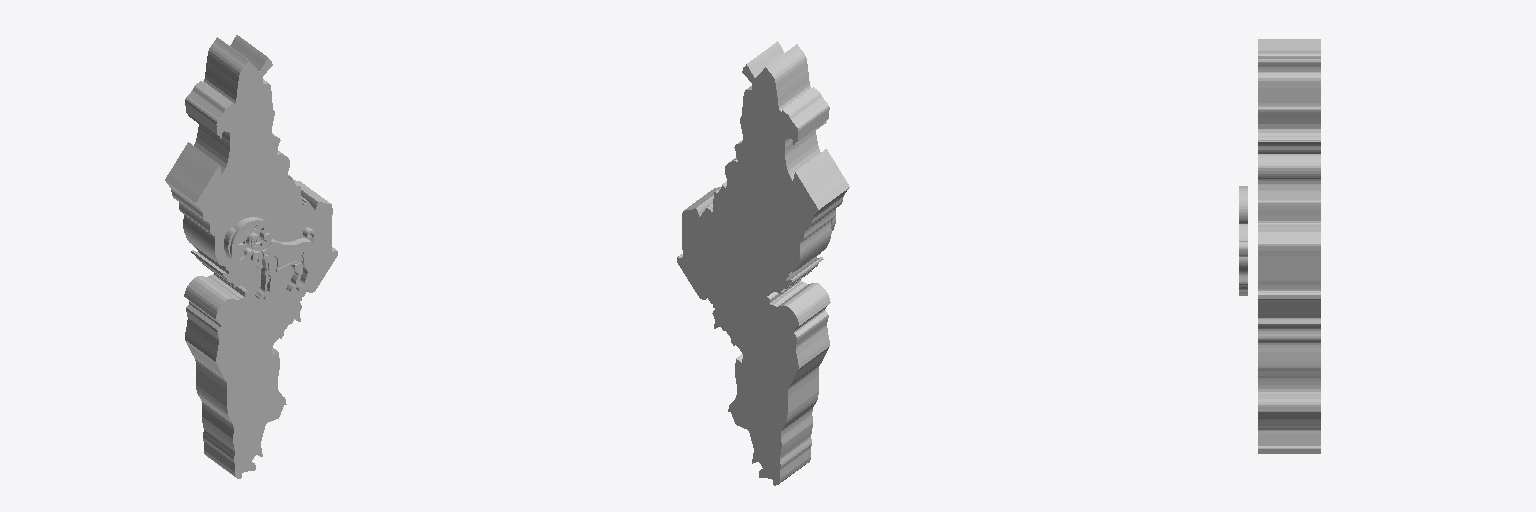
File: NuevoLeon.obj
3 views of the same model, side by side, from view 1: azimuth 30°, elevation 25°; view 2: azimuth 150°, elevation 25°; view 3: azimuth 270°, elevation 25° (orthographic).
Visible parts, largest first — view 1: group_0_[number redacted], Mesh; view 2: group_0_[number redacted]; view 3: group_0_[number redacted], Mesh.
Boxes of the visible parts, x1=… form: group_0_[number redacted]: x1=165, y1=35, x2=337, y2=478; Mesh: x1=224, y1=217, x2=316, y2=299; group_0_[number redacted]: x1=677, y1=41, x2=849, y2=485; group_0_[number redacted]: x1=1258, y1=39, x2=1320, y2=453; Mesh: x1=1239, y1=186, x2=1247, y2=295.
Size of the model in its own units: 7.23 by 20.26 by 3.57.